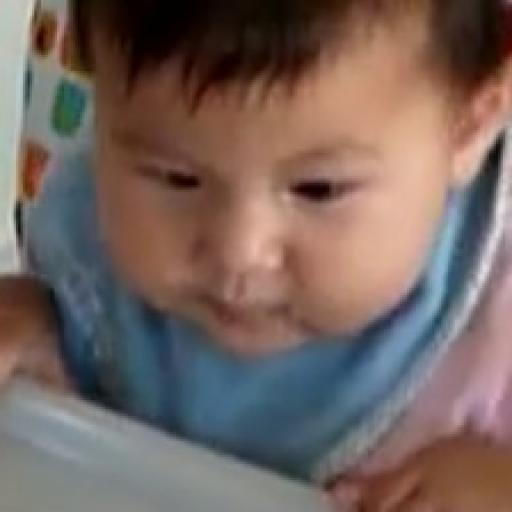Autism: (77, 0, 446, 409)
